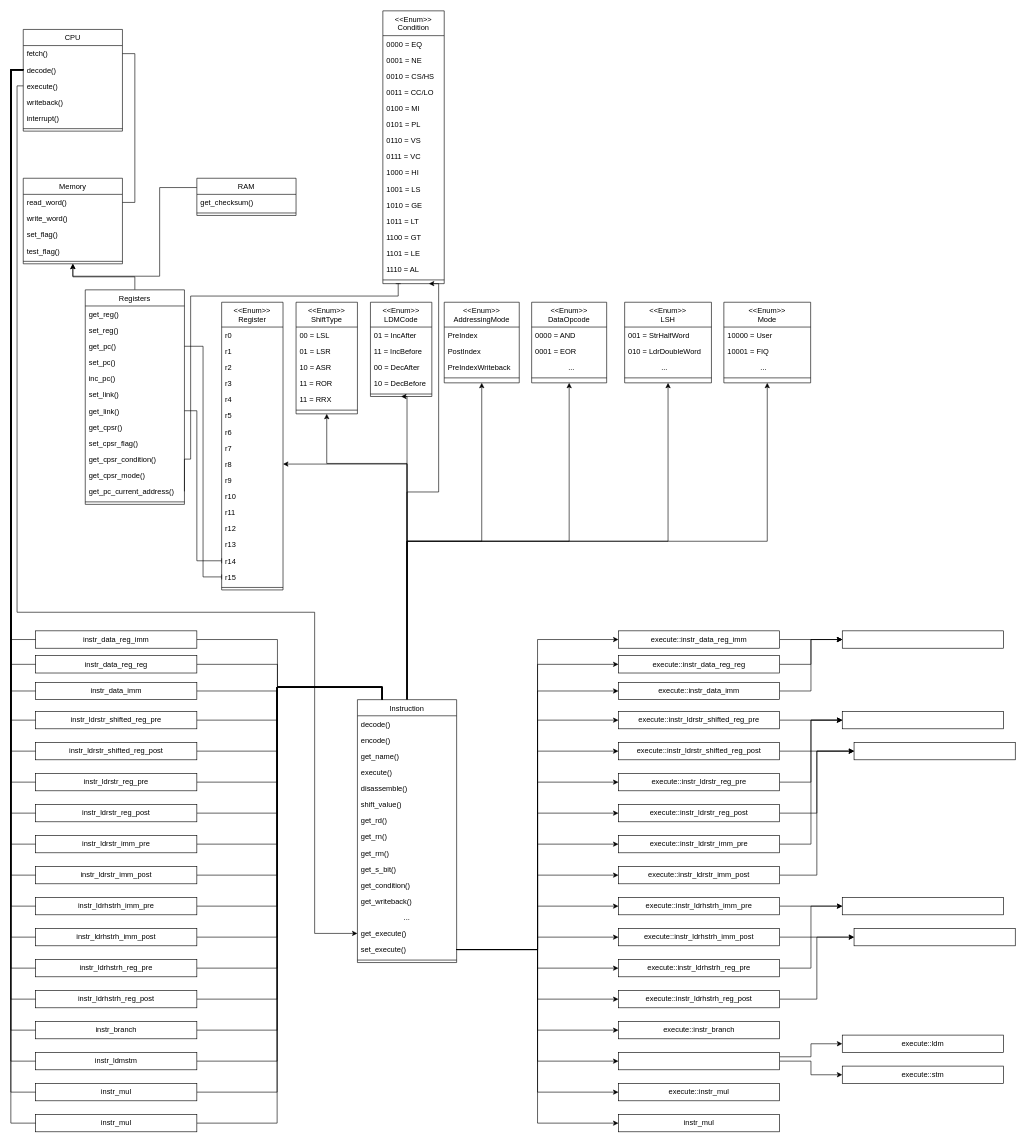
This 1026x1143 diagram has some shape labels left out. Here are the shapes that lost their labels. From the top down, the centre of each, then its label:
the point at 922,639: execute::data_match_opcode
the point at 922,720: execute::ldr_str_pre
the point at 934,751: execute::ldr_str_post
the point at 922,906: execute::ldrh_strh_pre
the point at 934,937: execute::ldrh_strh_post
the point at 699,1061: execute::instr_ldmstm
